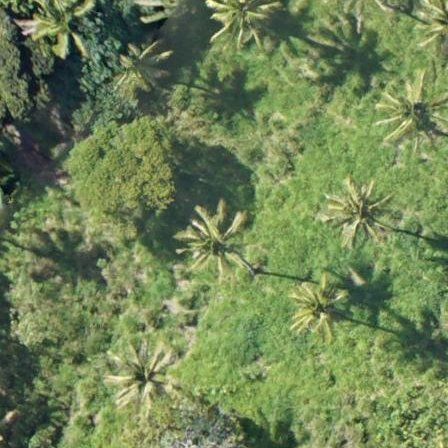palm_tree: (373, 75, 447, 154), (107, 335, 180, 414), (181, 202, 254, 279), (322, 172, 392, 247), (286, 275, 350, 343), (109, 37, 172, 98), (22, 1, 90, 56), (199, 1, 279, 47)
